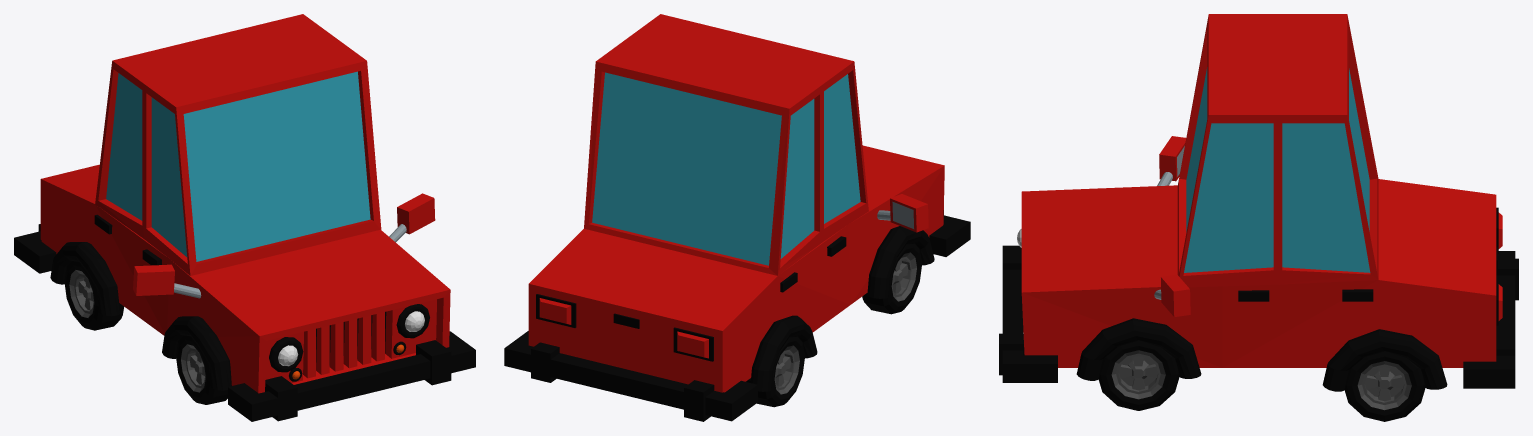
The picture shows the model from 3 angles, left to right: view 1: azimuth 30°, elevation 25°; view 2: azimuth 150°, elevation 25°; view 3: azimuth 270°, elevation 25°; orthographic projection. The views are drawn at different scales.
Visible parts, largest first — view 1: node_MeshObject1987191616-PolyPaper22.001; view 2: node_MeshObject1987191616-PolyPaper22.001; view 3: node_MeshObject1987191616-PolyPaper22.001.
Part boxes in pixels (bbox=[...]): node_MeshObject1987191616-PolyPaper22.001: bbox=[14, 14, 475, 421]; node_MeshObject1987191616-PolyPaper22.001: bbox=[504, 14, 970, 421]; node_MeshObject1987191616-PolyPaper22.001: bbox=[999, 14, 1518, 421].
Size of the model in its own units: 1.08 by 0.9688 by 1.5.
